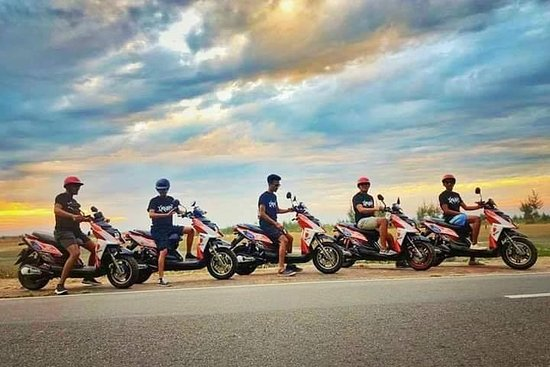scooter: (416, 187, 539, 271), (14, 206, 138, 289), (121, 200, 238, 281), (231, 191, 344, 274), (333, 193, 436, 271)
